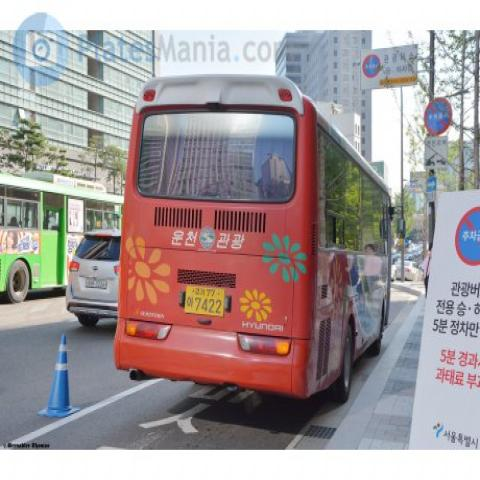LP: (182, 279, 234, 319), (84, 271, 110, 298)
